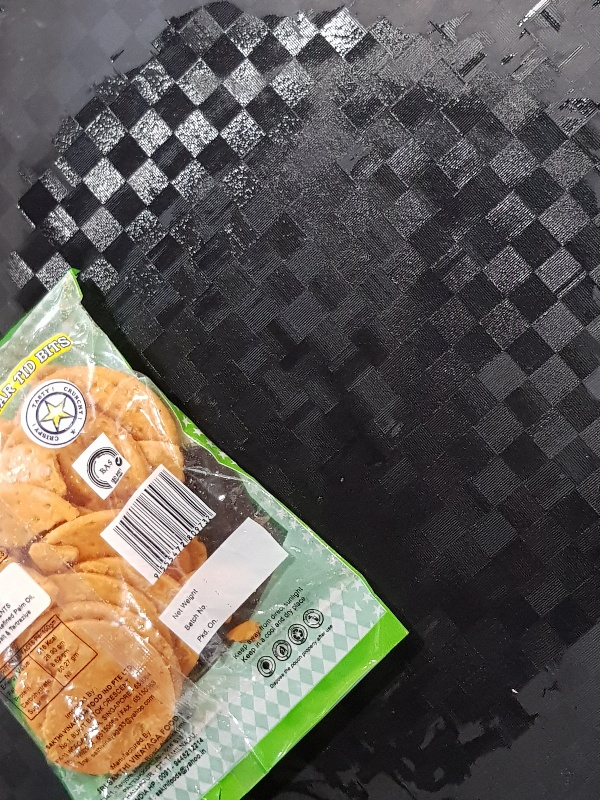Star Tidbits 'O' Ring: (2, 265, 411, 800)
